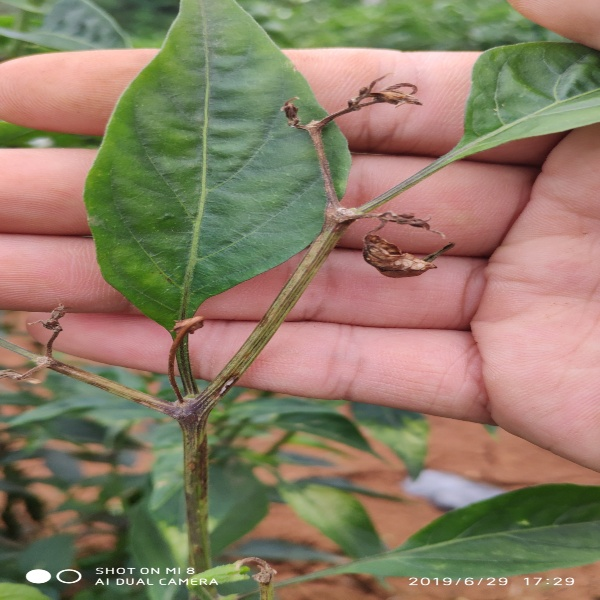blight: (204, 222, 358, 403), (1, 299, 169, 420), (278, 74, 427, 141), (356, 209, 465, 281), (168, 401, 212, 572), (307, 130, 359, 230), (167, 313, 203, 403), (235, 551, 290, 600)
